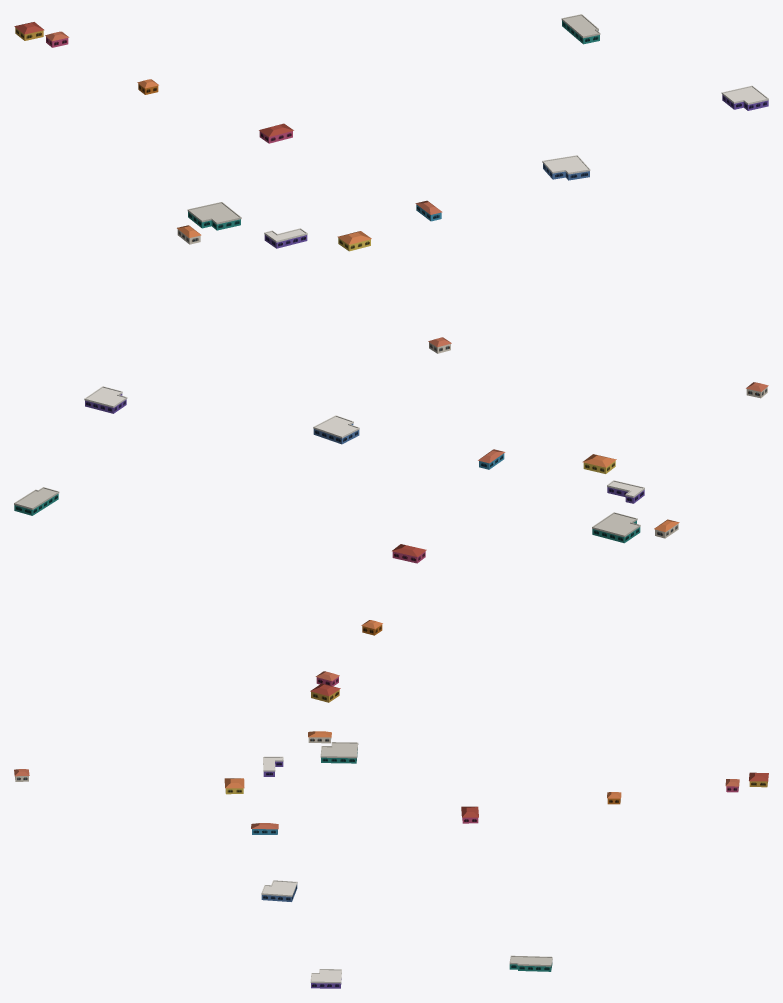
File: msb_noord_m16_m10.glb
3 renders of one model, top to bottom at view 1: azimuth 30°, elevation 25°; view 2: azimuth 150°, elevation 25°; view 3: azimuth 270°, elevation 25°, orthographic. The views are drawn at different scales.
Parts seen in each view (by area): view 1: msb_noord_m16_m10_lod0; view 2: msb_noord_m16_m10_lod0; view 3: msb_noord_m16_m10_lod0.
Part boxes in pixels (x1=…): msb_noord_m16_m10_lod0: x1=14, y1=14, x2=768, y2=353; msb_noord_m16_m10_lod0: x1=14, y1=382, x2=768, y2=702; msb_noord_m16_m10_lod0: x1=14, y1=731, x2=768, y2=988.
Size of what is drawn, in the model's own units: 304 by 9.97 by 393.
Materials: 3 (1 with a texture image).
